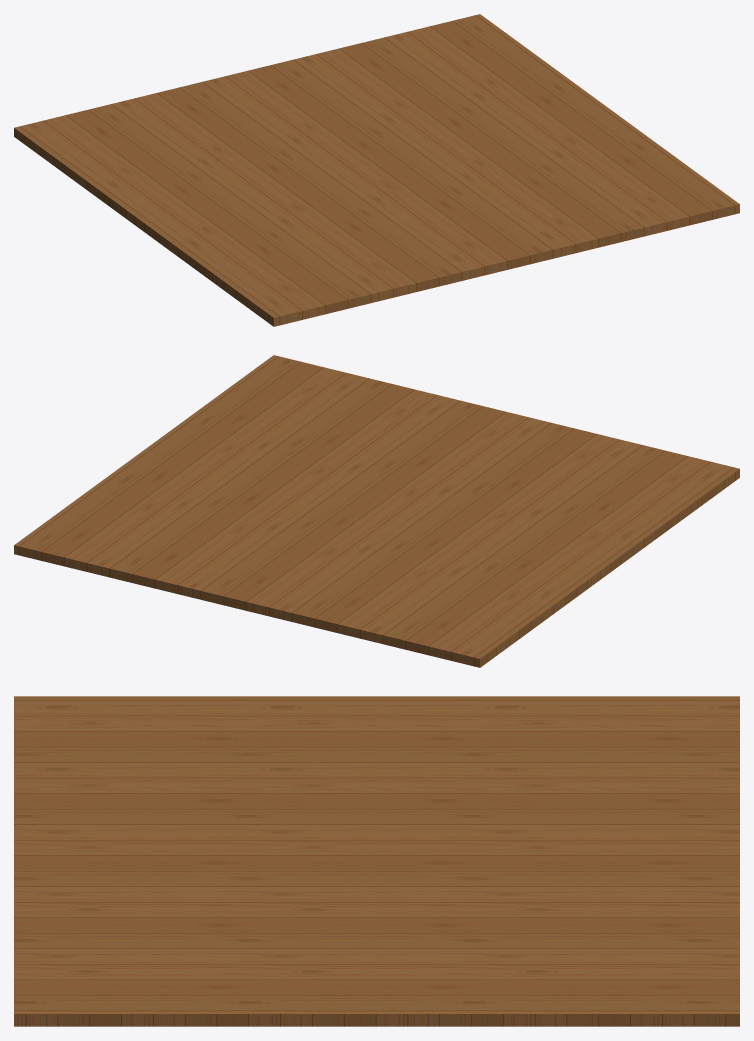
The model's file is SM_HH_V2_Floor.fbx.
3 views of the same model, one above another, from view 1: azimuth 30°, elevation 25°; view 2: azimuth 150°, elevation 25°; view 3: azimuth 270°, elevation 25° (orthographic). The views are drawn at different scales.
Parts seen in each view (by area): view 1: HH_V2_Floor; view 2: HH_V2_Floor; view 3: HH_V2_Floor.
Part boxes in pixels (x1,y1,x2,y2): HH_V2_Floor: [14, 14, 739, 326]; HH_V2_Floor: [14, 355, 739, 667]; HH_V2_Floor: [14, 696, 739, 1026].
Bounding box in the file's own units: 8.4 × 8.7 × 0.16.
